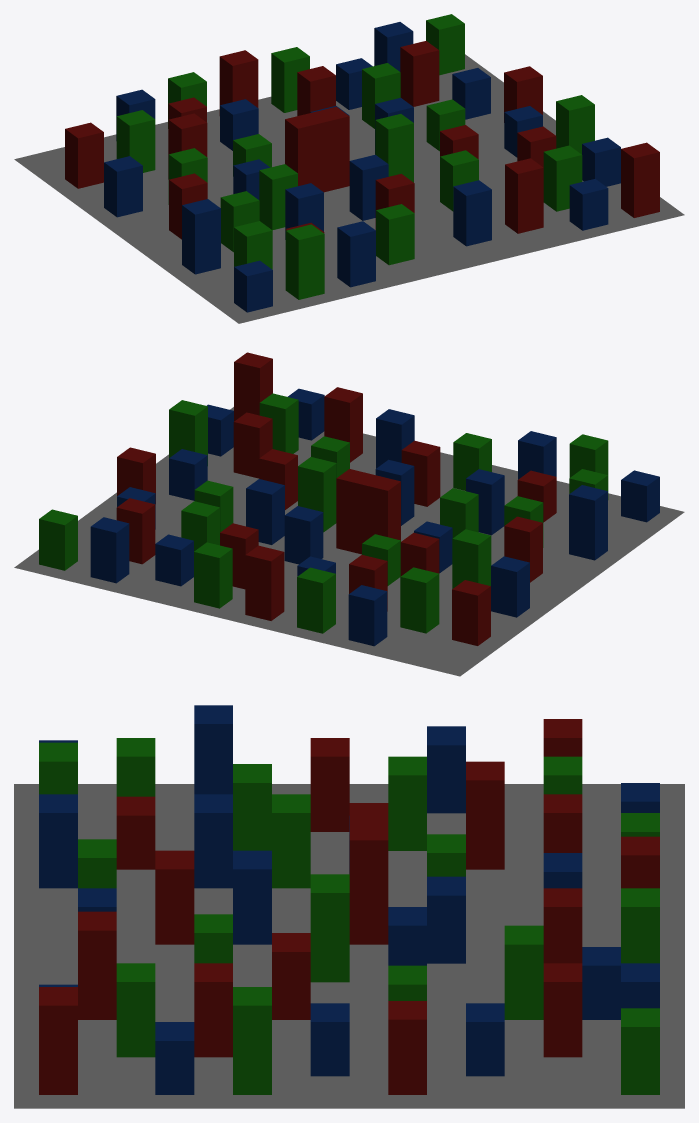
The model's file is Buildings.fbx.
The picture shows the model from 3 angles, top to bottom: view 1: azimuth 30°, elevation 25°; view 2: azimuth 150°, elevation 25°; view 3: azimuth 270°, elevation 25°; orthographic projection. The views are drawn at different scales.
Visible parts, largest first — view 1: Plane; view 2: Plane; view 3: Plane.
Boxes of the visible parts, x1,y1,x2,y2 form: Plane: (14, 14, 684, 323); Plane: (14, 352, 684, 676); Plane: (14, 705, 684, 1108).
Size of the model in its own units: 4951 by 753 by 4323.
